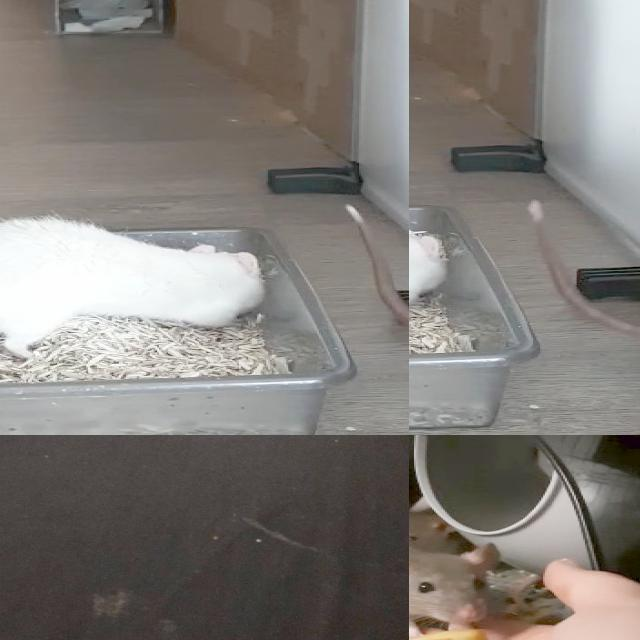rat: (0, 217, 259, 358), (409, 537, 520, 637), (409, 504, 463, 552)
